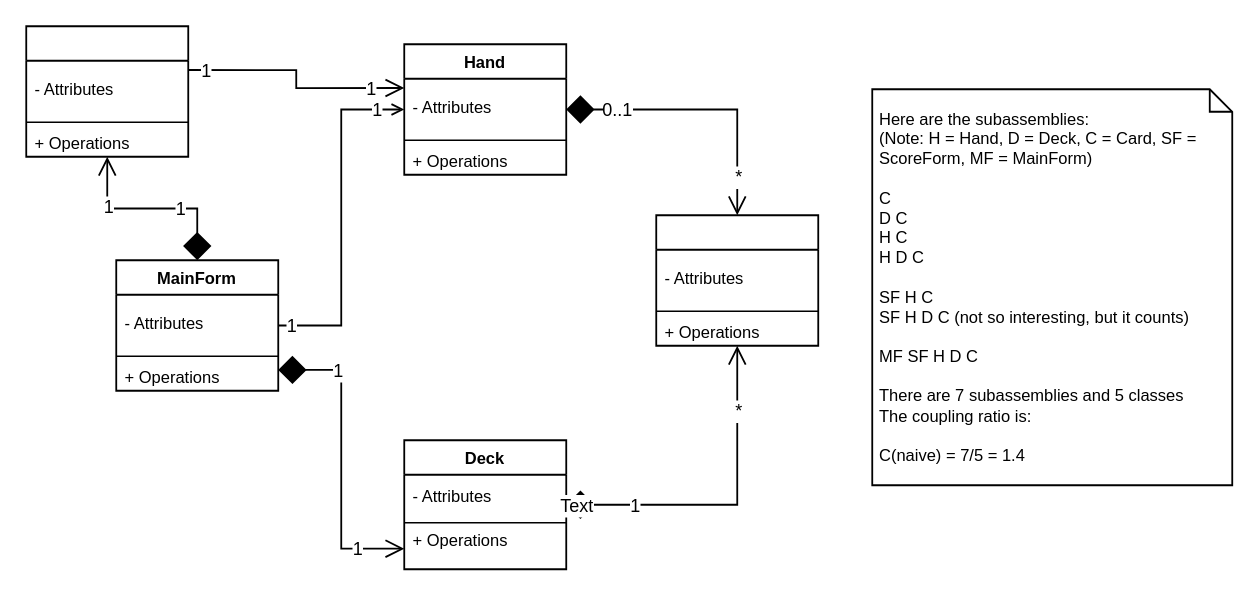
This 1260x605 diagram has some shape labels left out. Each missing label, with the box of its shape:
Card: (655, 214, 818, 346)
ScoreForm: (25, 25, 188, 157)
